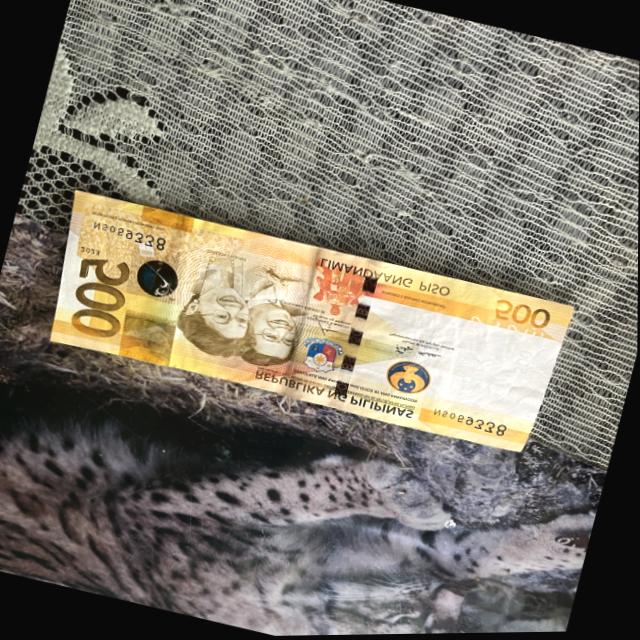concealed_value: (115, 310, 181, 369)
optically_variable_device: (125, 245, 191, 308)
serial_number: (55, 242, 141, 348)
value_watermark: (507, 345, 536, 382)
